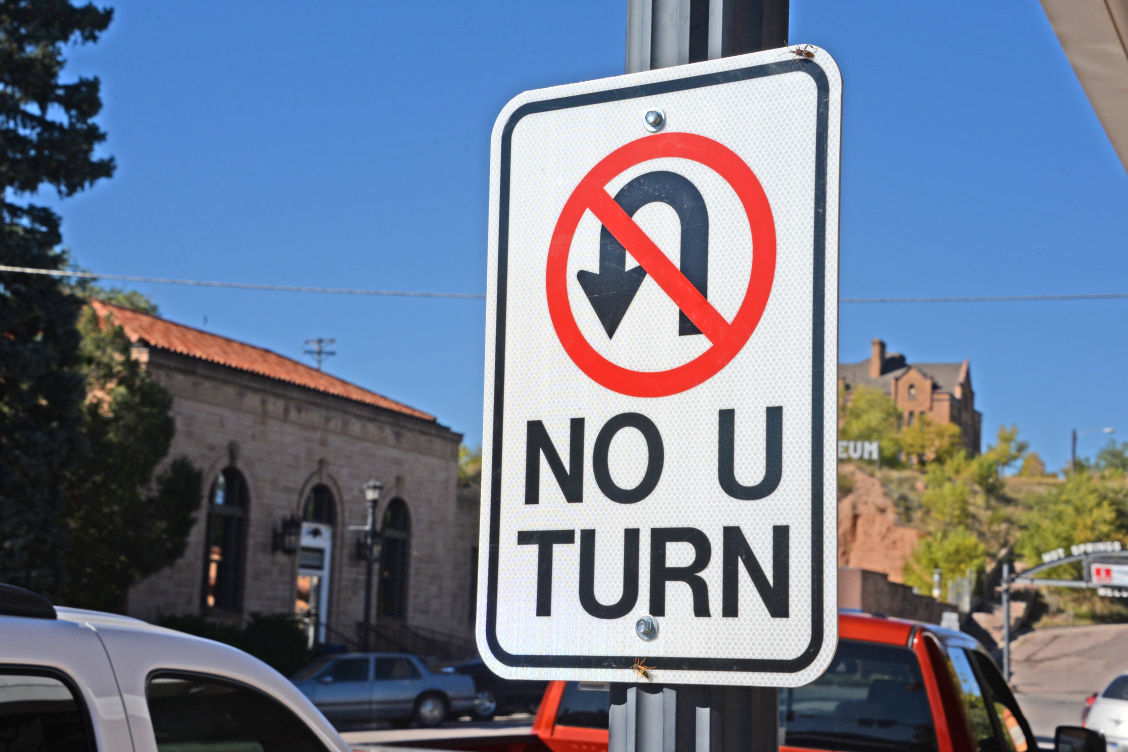No_u_turn: (545, 134, 779, 400)
